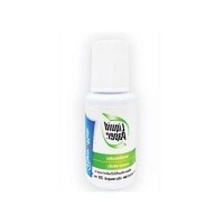correction_fluid: (81, 35, 140, 192)
